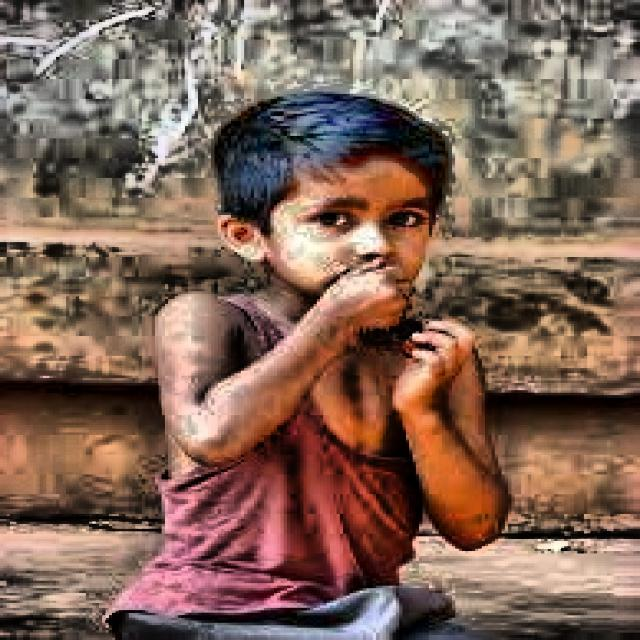Human: (130, 73, 536, 638)
